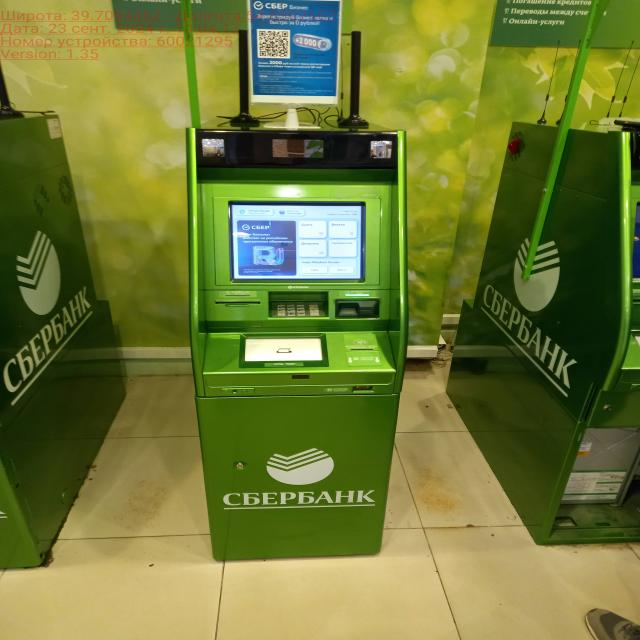bank: (186, 123, 404, 569), (448, 114, 640, 546), (0, 112, 123, 567)
